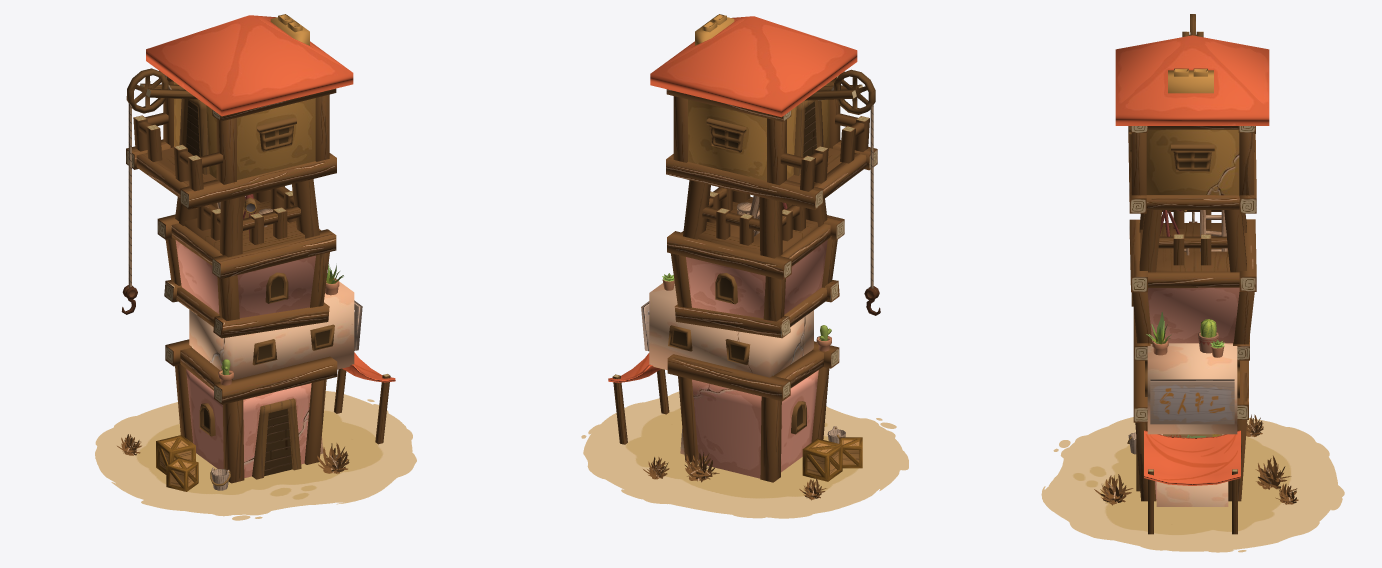
The model's file is desert_shop.obj.
3 views of the same model, side by side, from view 1: azimuth 30°, elevation 25°; view 2: azimuth 150°, elevation 25°; view 3: azimuth 270°, elevation 25° (orthographic).
Parts seen in each view (by area): view 1: obj101, obj102, obj104, obj1, obj72, obj31, obj73, obj96, obj98, obj32, obj46, obj40 (+1 smaller); view 2: obj101, obj102, obj104, obj1, obj72, obj31, obj95, obj73, obj46, obj97, obj32, obj99 (+1 smaller); view 3: obj101, obj104, obj102, obj32, obj31, obj73, obj1, obj97, obj98, obj87.
Part boxes in pixels (x1,y1,x2,y2): obj101: (146,14,354,477); obj102: (126,71,337,483); obj104: (95,391,416,520); obj1: (179,99,334,479); obj72: (121,68,197,314); obj31: (117,263,349,473); obj73: (184,198,304,253); obj96: (220,196,243,257); obj98: (292,179,319,238); obj32: (342,300,395,382); obj46: (156,435,195,474); obj40: (166,457,198,491); obj101: (649,14,857,478); obj102: (666,71,877,482); obj104: (581,391,908,518); obj1: (668,100,823,434); obj72: (805,69,880,315); obj31: (643,273,831,500); obj95: (759,197,782,258); obj73: (698,198,817,253); obj46: (802,438,842,481); obj97: (683,180,710,239); obj32: (608,301,660,382); obj99: (612,374,627,444); obj101: (1115,35,1269,506); obj104: (1041,417,1344,552); obj102: (1128,126,1256,501); obj32: (1144,379,1240,485); obj31: (1094,312,1298,505); obj73: (1140,223,1244,271); obj1: (1129,126,1255,491); obj97: (1224,209,1246,272); obj98: (1139,210,1162,272); obj87: (1158,236,1227,248).
Bounding box in the file's own units: 1.42 × 2 × 1.42.
Materials: 12 (12 with a texture image).
